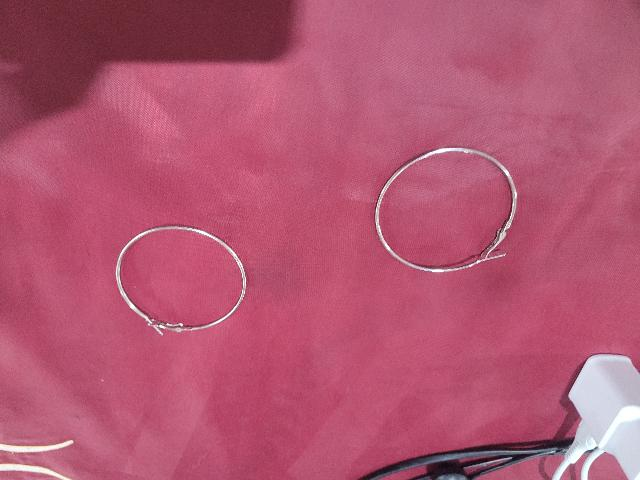Metal: (102, 214, 270, 344), (371, 142, 531, 275)
